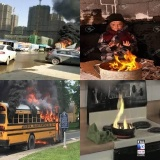fire: (104, 48, 144, 72), (113, 92, 132, 130), (40, 105, 58, 132), (26, 91, 37, 105), (55, 39, 70, 48), (35, 139, 48, 144)
